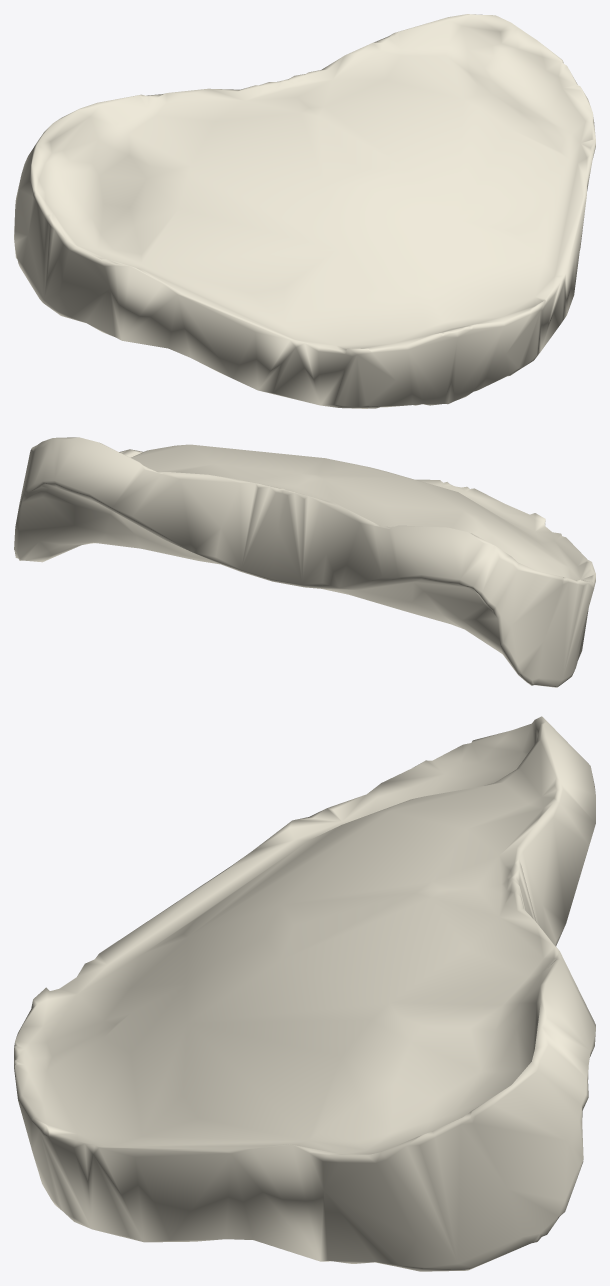
The picture shows the model from 3 angles, top to bottom: view 1: azimuth 30°, elevation 25°; view 2: azimuth 150°, elevation 25°; view 3: azimuth 270°, elevation 25°; orthographic projection. The views are drawn at different scales.
Visible parts, largest first — view 1: ZA_628c06afde34eaa7; view 2: ZA_628c06afde34eaa7; view 3: ZA_628c06afde34eaa7.
Part boxes in pixels (left/top/right/bottom): ZA_628c06afde34eaa7: left=14, top=14, right=595, bottom=408; ZA_628c06afde34eaa7: left=14, top=437, right=595, bottom=687; ZA_628c06afde34eaa7: left=14, top=716, right=595, bottom=1271.
Bounding box in the file's own units: 0.0344 × 0.0133 × 0.0226.
